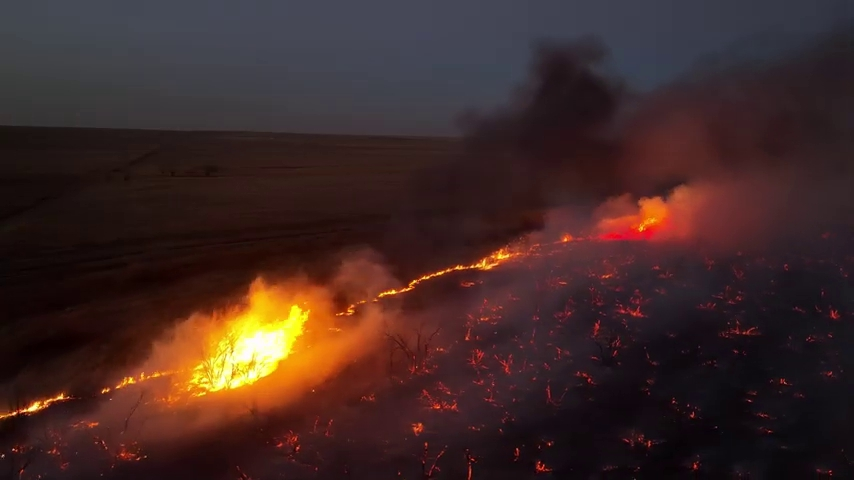forest_fire: (335, 246, 526, 314), (185, 292, 309, 395), (598, 197, 669, 238), (0, 393, 71, 419)
